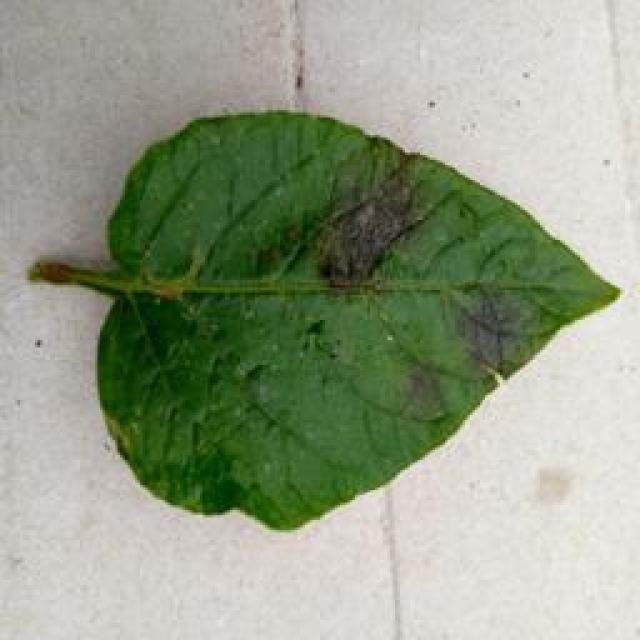late_blight: (82, 105, 622, 535)
